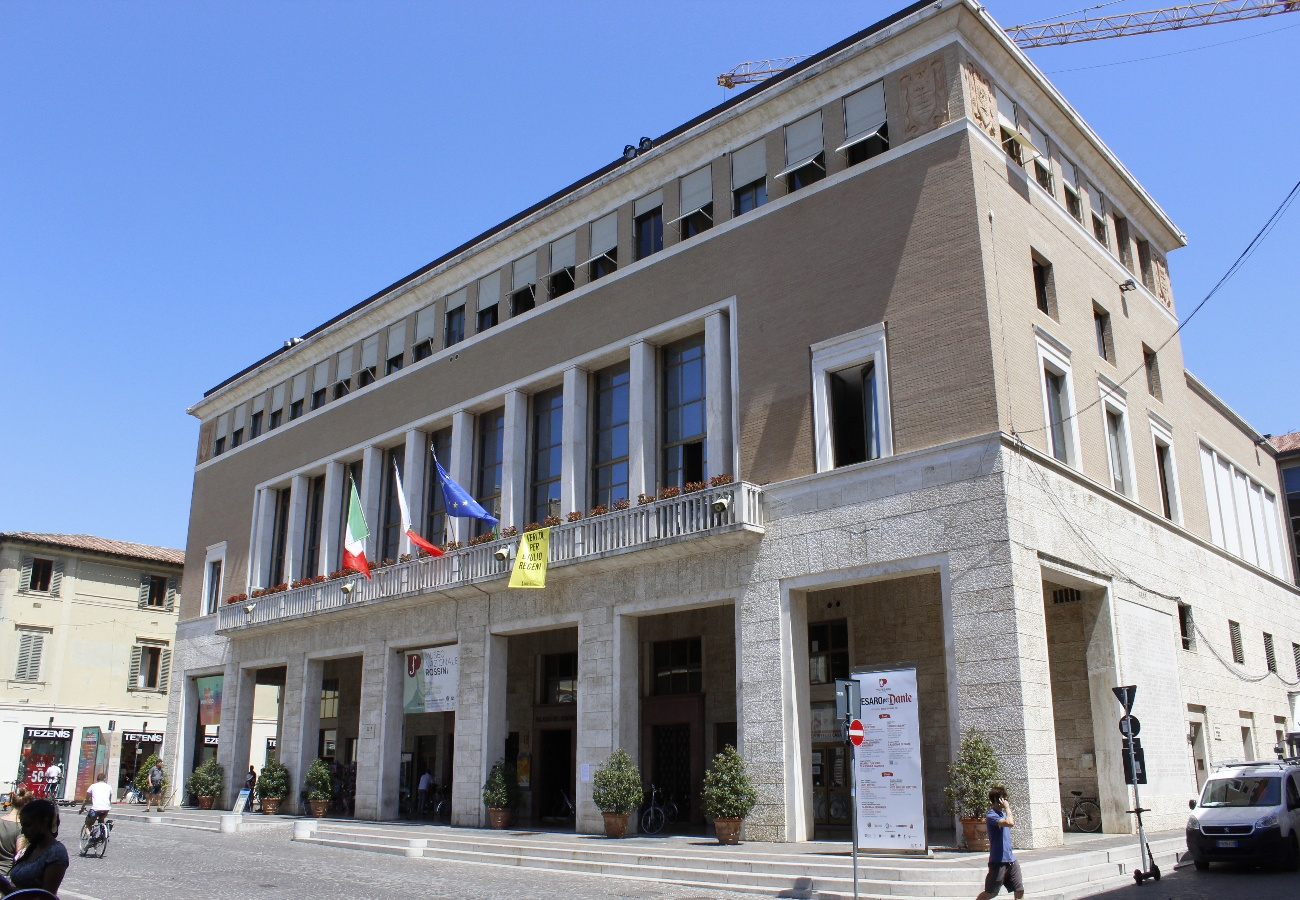Palazzo Comunale: (169, 16, 961, 854)
